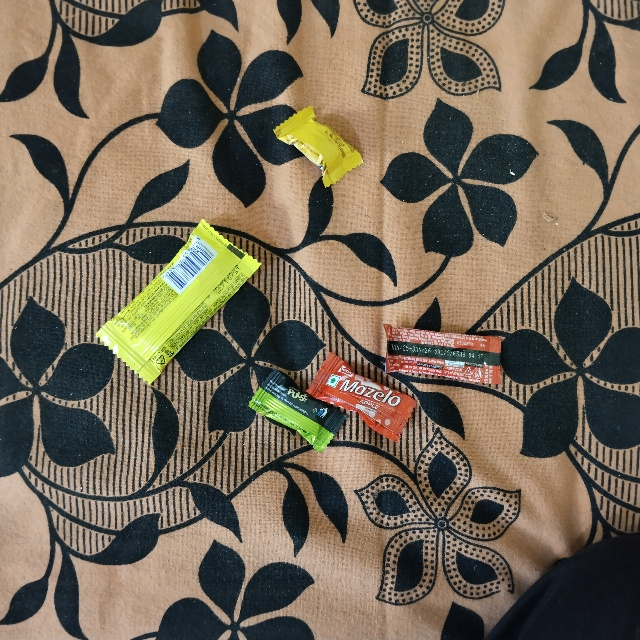Alpenlibe Creamfills: (312, 91, 403, 150)
Mazelo: (300, 395, 351, 504)
Nescafe Coffee: (384, 323, 507, 389)
Orbit: (206, 210, 289, 387)
Pulse: (243, 414, 294, 505)
